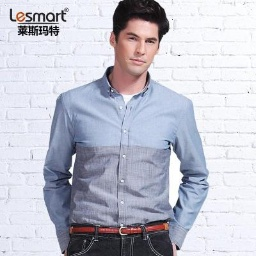face: (108, 1, 171, 76)
